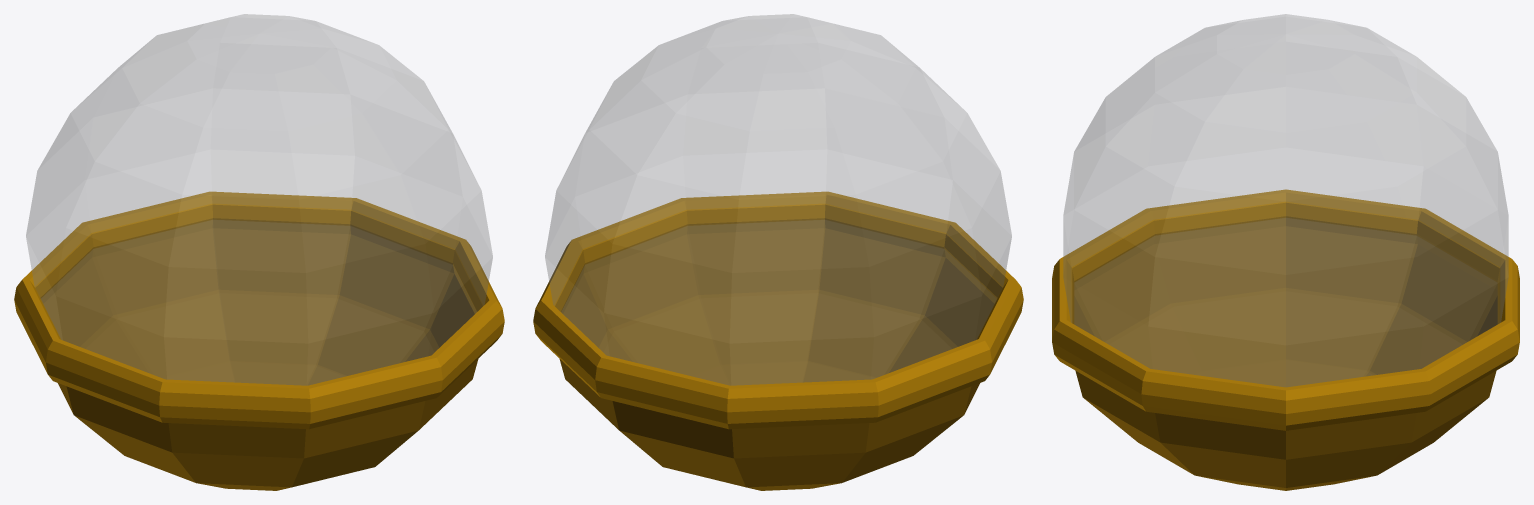
Rendered from Orb Compass.fbx.
3 renders of one model, left to right at view 1: azimuth 30°, elevation 25°; view 2: azimuth 150°, elevation 25°; view 3: azimuth 270°, elevation 25°, orthographic.
Visible parts, largest first — view 1: pSphere3; view 2: pSphere3; view 3: pSphere3.
Part boxes in pixels (x1,y1,x2,y2): pSphere3: (14, 14, 504, 490); pSphere3: (533, 14, 1023, 490); pSphere3: (1052, 14, 1519, 490).
Size of the model in its own units: 21 by 20.44 by 19.97.
